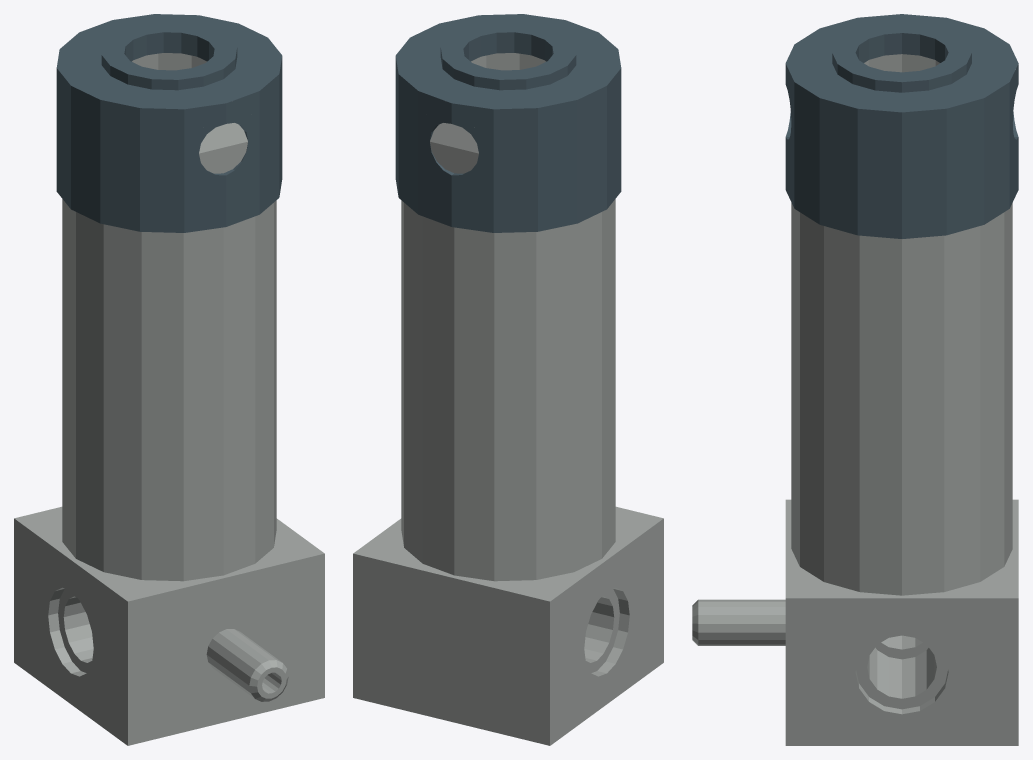
The picture shows the model from 3 angles, left to right: view 1: azimuth 30°, elevation 25°; view 2: azimuth 150°, elevation 25°; view 3: azimuth 270°, elevation 25°; orthographic projection. The views are drawn at different scales.
Parts seen in each view (by area): view 1: world; view 2: world; view 3: world.
Part boxes in pixels (x1,y1,x2,y2): world: [14, 14, 324, 745]; world: [353, 14, 663, 745]; world: [692, 14, 1018, 745].
Bounding box in the file's own units: 0.016 × 0.0488 × 0.0224.
